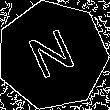N_SE: (24, 24, 81, 86)
